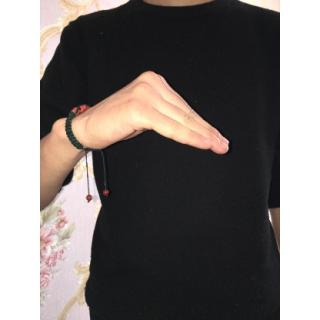HAA: (76, 66, 241, 163)
